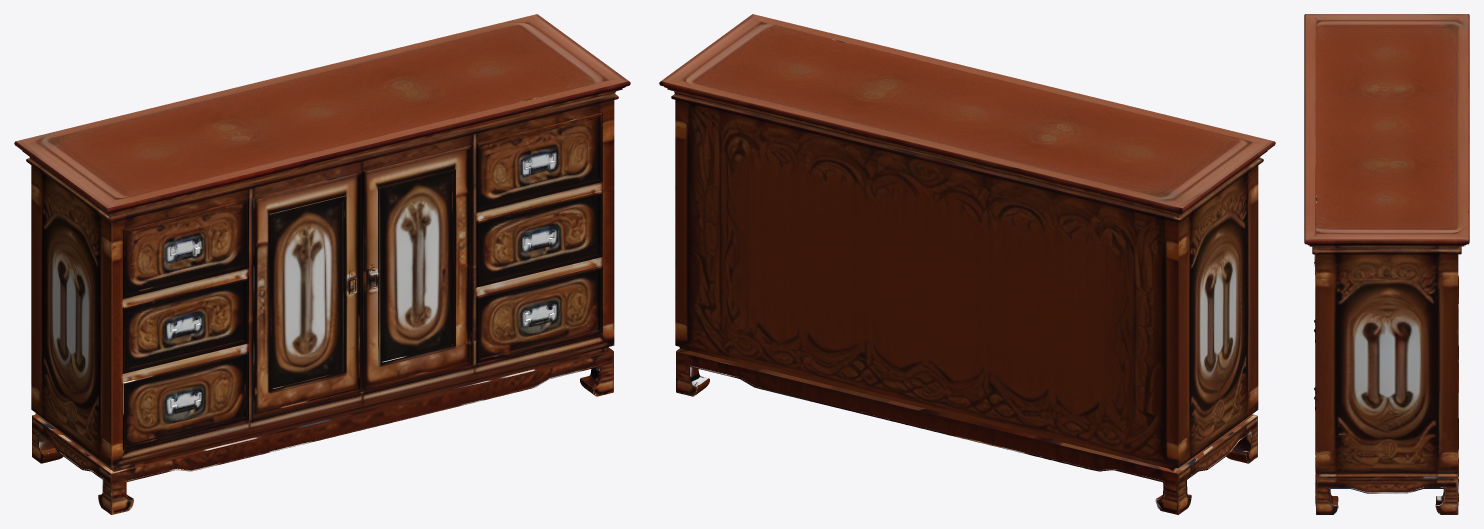
File: edited_mesh.glb
3 renders of one model, left to right at view 1: azimuth 30°, elevation 25°; view 2: azimuth 150°, elevation 25°; view 3: azimuth 270°, elevation 25°, orthographic. The views are drawn at different scales.
Parts seen in each view (by area): view 1: solid_001_wire; view 2: solid_001_wire; view 3: solid_001_wire.
Part boxes in pixels (x1=…): solid_001_wire: x1=14, y1=14, x2=630, y2=514; solid_001_wire: x1=659, y1=14, x2=1275, y2=514; solid_001_wire: x1=1304, y1=14, x2=1469, y2=514.
Bounding box in the file's own units: 1.86 × 1.07 × 0.5733.
Materials: 1 (1 with a texture image).
